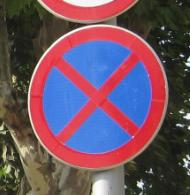No Parking: (26, 26, 170, 170)
